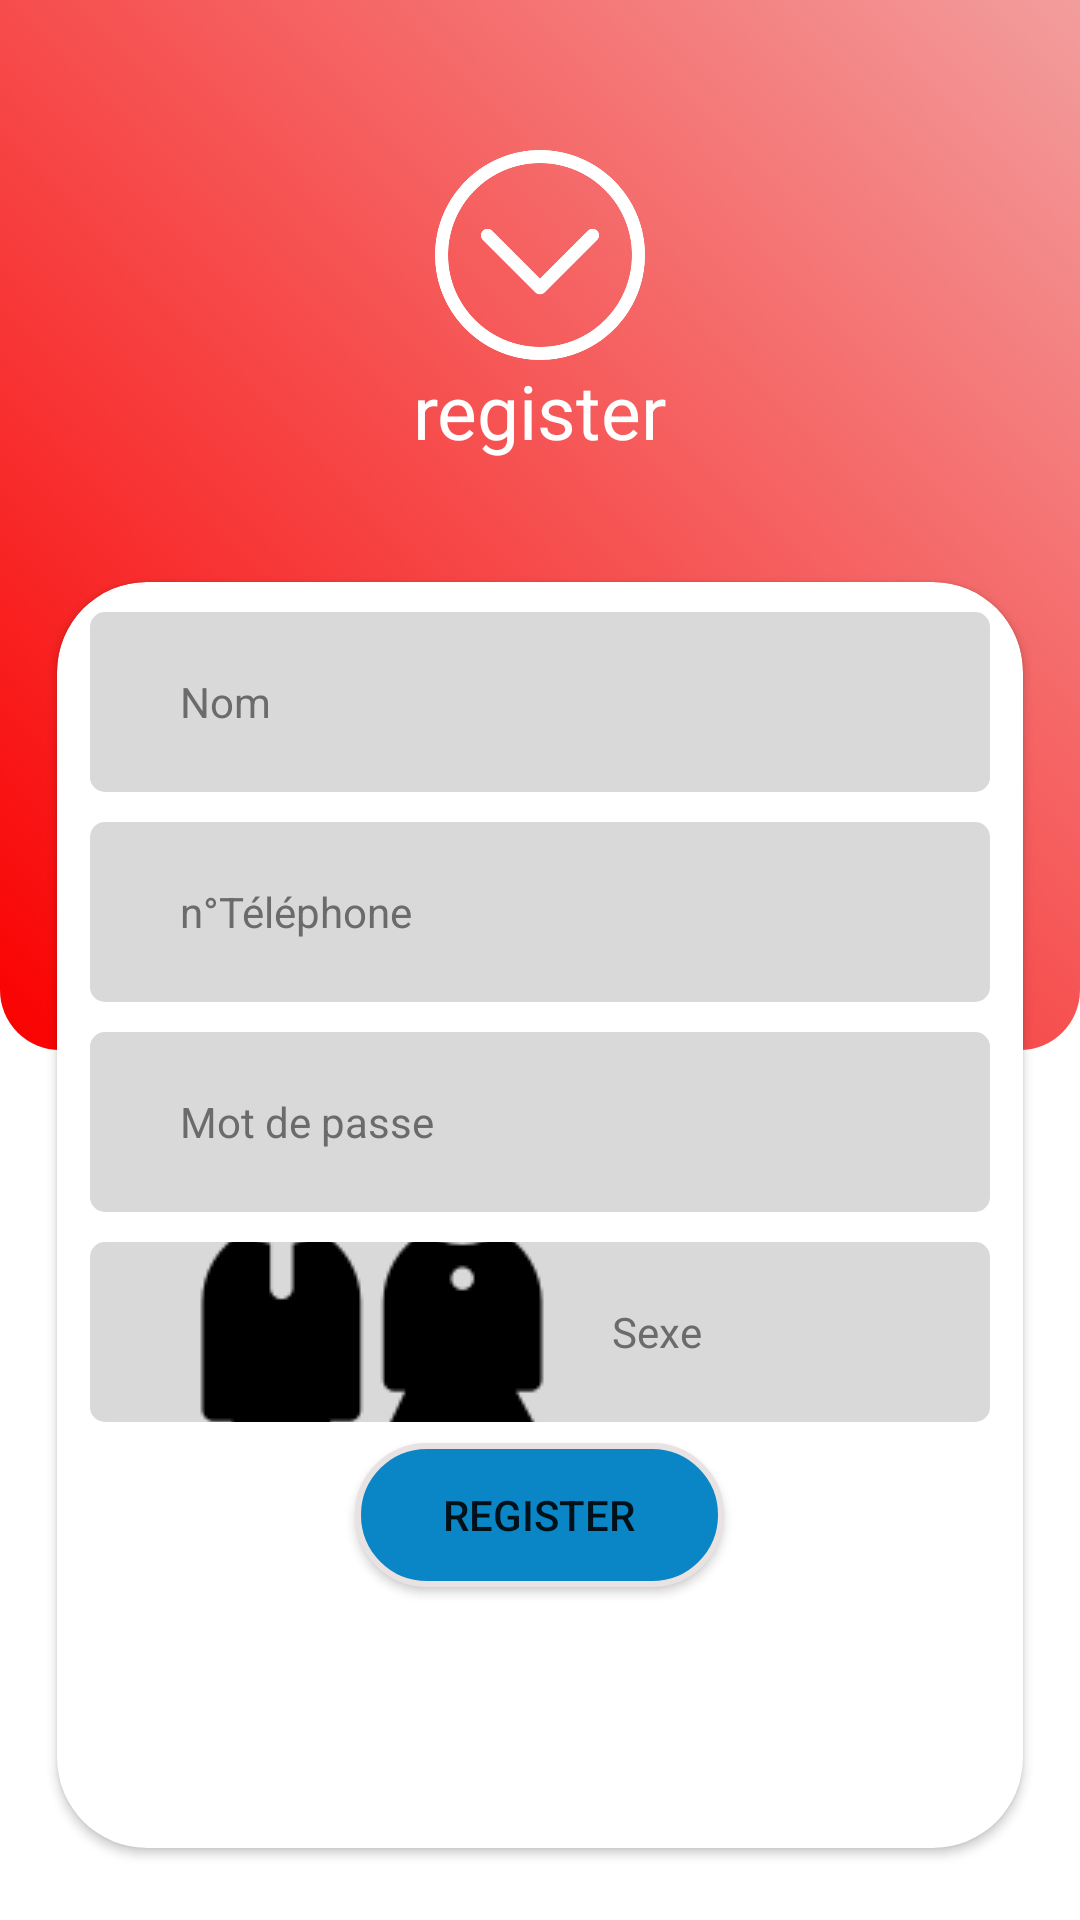

Icons on this 1080w x 1920h Android screen, each with its box as (x1=x1, y1=y1, x2=x2, y2=y2):
down: (x1=435, y1=150, x2=645, y2=360)
